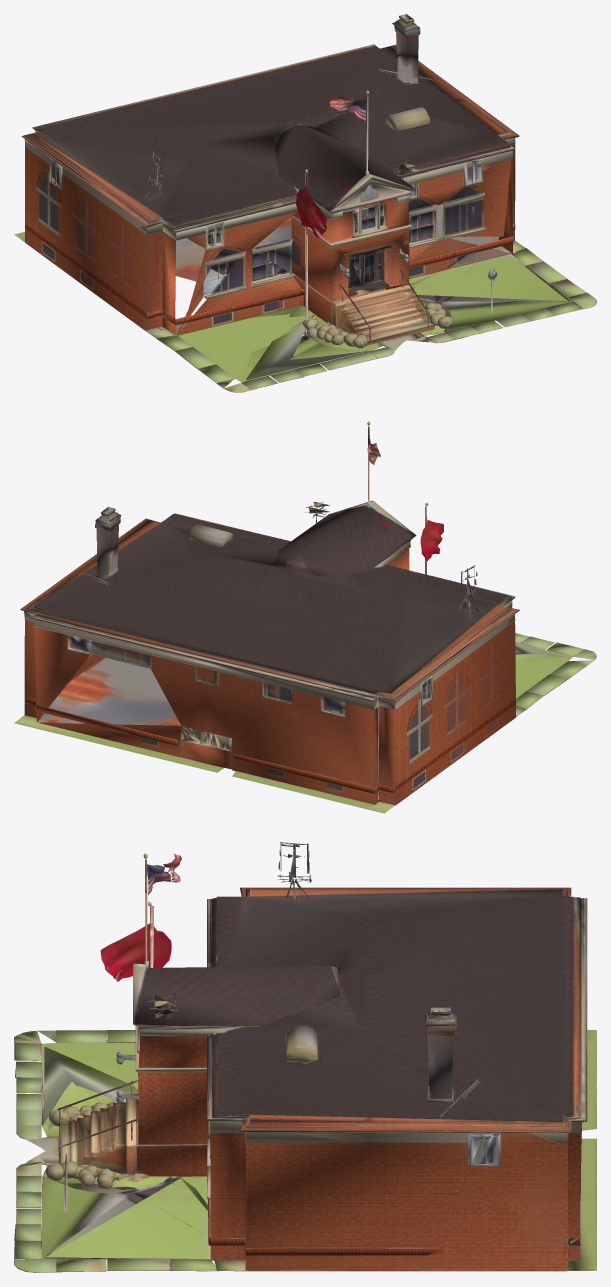
File: bld_high_school.glb
3 renders of one model, top to bottom at view 1: azimuth 30°, elevation 25°; view 2: azimuth 150°, elevation 25°; view 3: azimuth 270°, elevation 25°, orthographic. The views are drawn at different scales.
Size of the model in its own units: 0.9497 by 0.5459 by 0.9585.
1 material, 1 textured.
